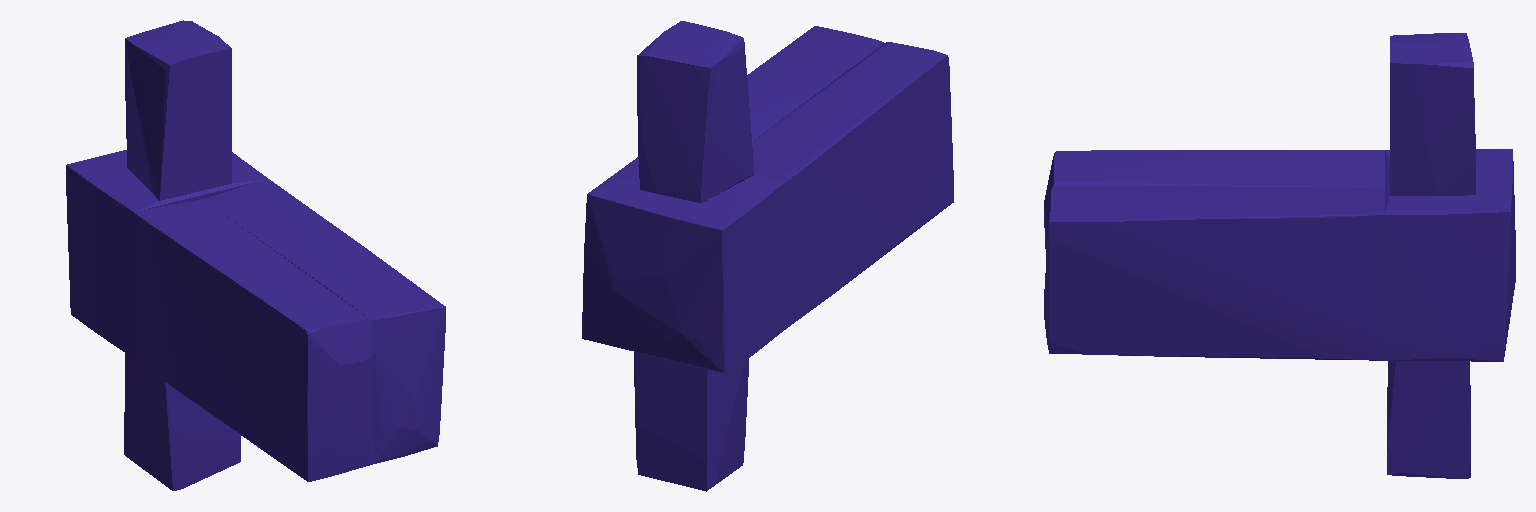
URDF robot description (blob880):
<robot name="blob880">
  <link name="random_obj_880">
    <contact>
      <lateral_friction value="1.0"/>
      <rolling_friction value="0.0"/>
      <inertia_scaling value="3.0"/>
      <contact_cfm value="0.0"/>
      <contact_erp value="1.0"/>
    </contact>
    <inertial>
      <origin rpy="0 0 0" xyz="0 0 0"/>
      <mass value="0.1"/>
      <inertia ixx="1" ixy="0" ixz="0" iyy="1" iyz="0" izz="0"/>
    </inertial>
    <visual>
      <origin rpy="0 0 0" xyz="0 0 0"/>
      <geometry>
        <mesh filename="880.obj" scale="0.015 0.015 0.015"/>
      </geometry>
      <material name="blockmat">
        <color rgba="0.29 0.22 0.62 1"/>
      </material>
    </visual>
    <collision>
      <origin rpy="0 0 0" xyz="0 0 0"/>
      <geometry>
        <mesh filename="880.obj" scale="0.015 0.015 0.015"/>
      </geometry>
    </collision>
  </link>
</robot>

--- What the picture shows (computed from the rendered views, not written in the file) ---
The picture shows the robot from 3 angles, left to right: view 1: azimuth 30°, elevation 25°; view 2: azimuth 150°, elevation 25°; view 3: azimuth 270°, elevation 25°; orthographic projection.
Robot: blob880 — 1 links, 0 joints (none); root link random_obj_880; default pose: every joint at zero.
Links seen in each view (by area): view 1: random_obj_880; view 2: random_obj_880; view 3: random_obj_880.
Boxes of the visible links, x1,y1,x2,y2 form: random_obj_880: (66,20,445,490); random_obj_880: (582,21,953,491); random_obj_880: (1044,33,1515,478).
Bounding box of the posed robot: 0.0322 × 0.093 × 0.0917 m (x, y, z).
Meshes: 1 distinct files referenced, 1 mesh visuals loaded (1 OBJ).